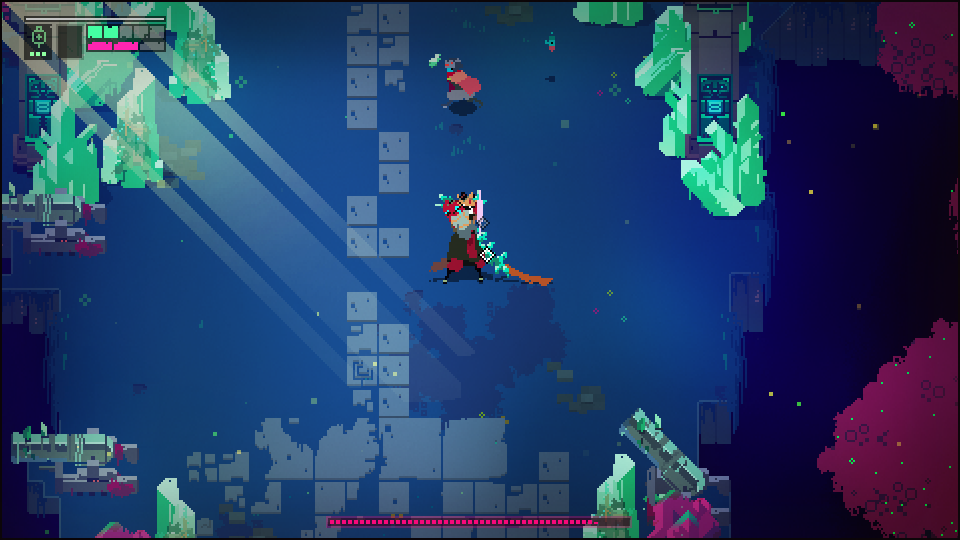hanged_man: (432, 186, 518, 294)
player: (444, 56, 486, 110)
